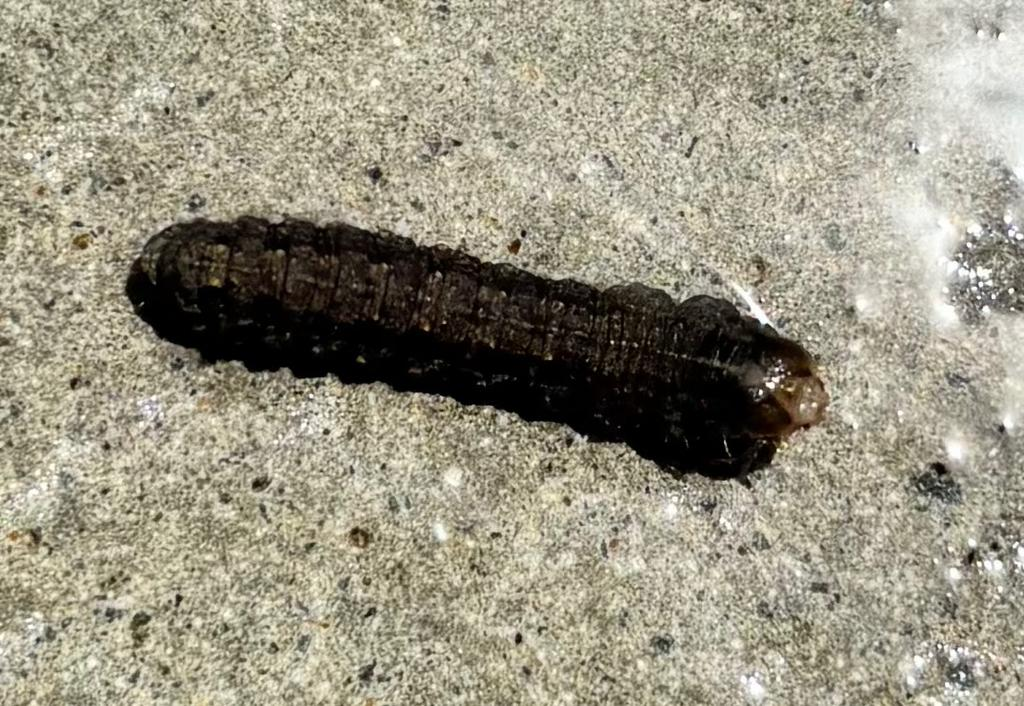caterpillars: (61, 129, 928, 569)
